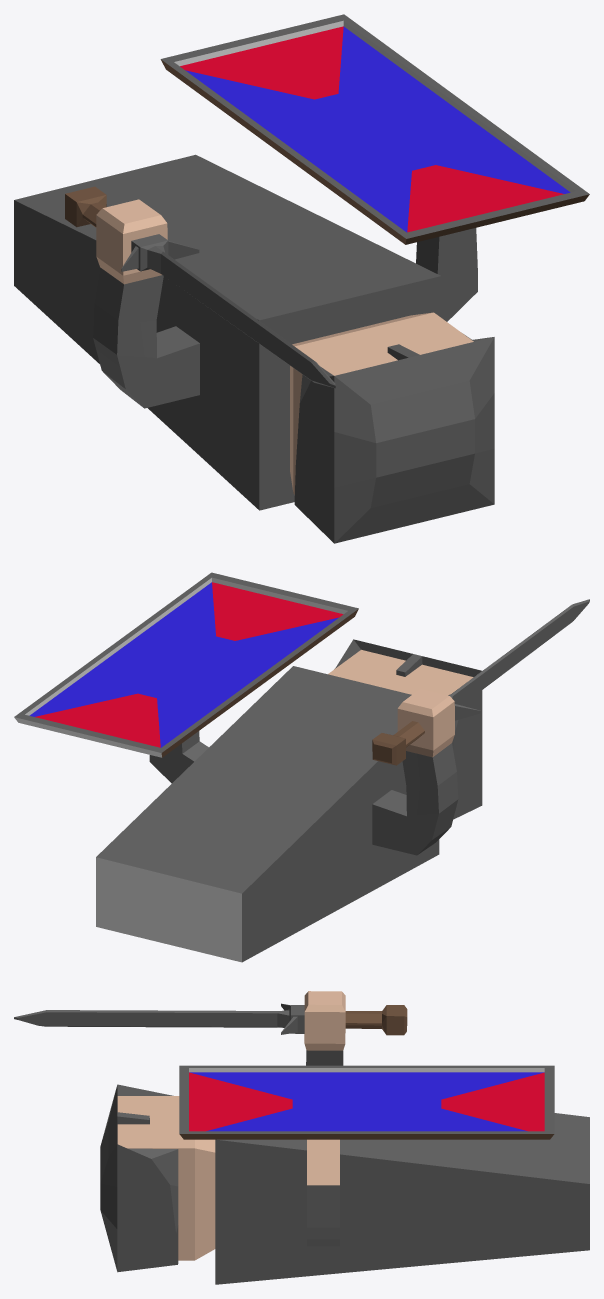
File: soldier.fbx
The picture shows the model from 3 angles, top to bottom: view 1: azimuth 30°, elevation 25°; view 2: azimuth 150°, elevation 25°; view 3: azimuth 270°, elevation 25°; orthographic projection. The views are drawn at different scales.
Parts seen in each view (by area): view 1: Soldier; view 2: Soldier; view 3: Soldier.
Boxes of the visible parts, <box> form: Soldier: <box>14,14,589,543</box>; Soldier: <box>14,572,589,962</box>; Soldier: <box>14,991,589,1284</box>.
Size of the model in its own units: 274 by 170 by 447.
